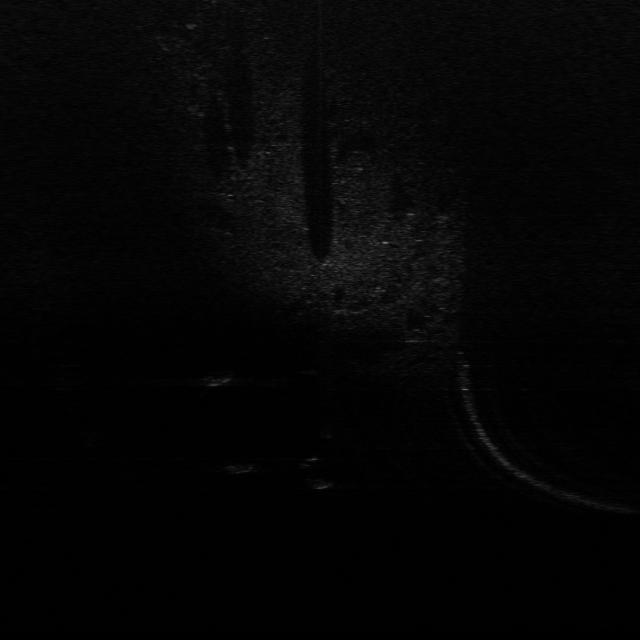cube: (220, 462, 260, 475)
square cage: (201, 369, 237, 390)
tyre: (294, 454, 336, 492)
